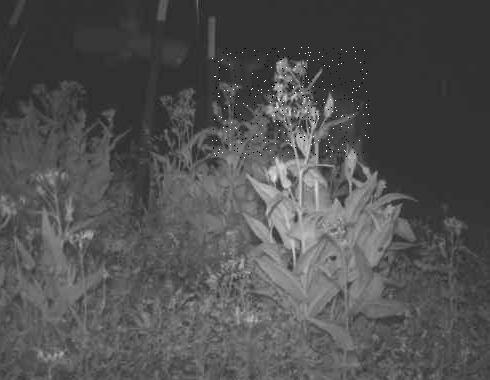Deer: (212, 47, 370, 158)
